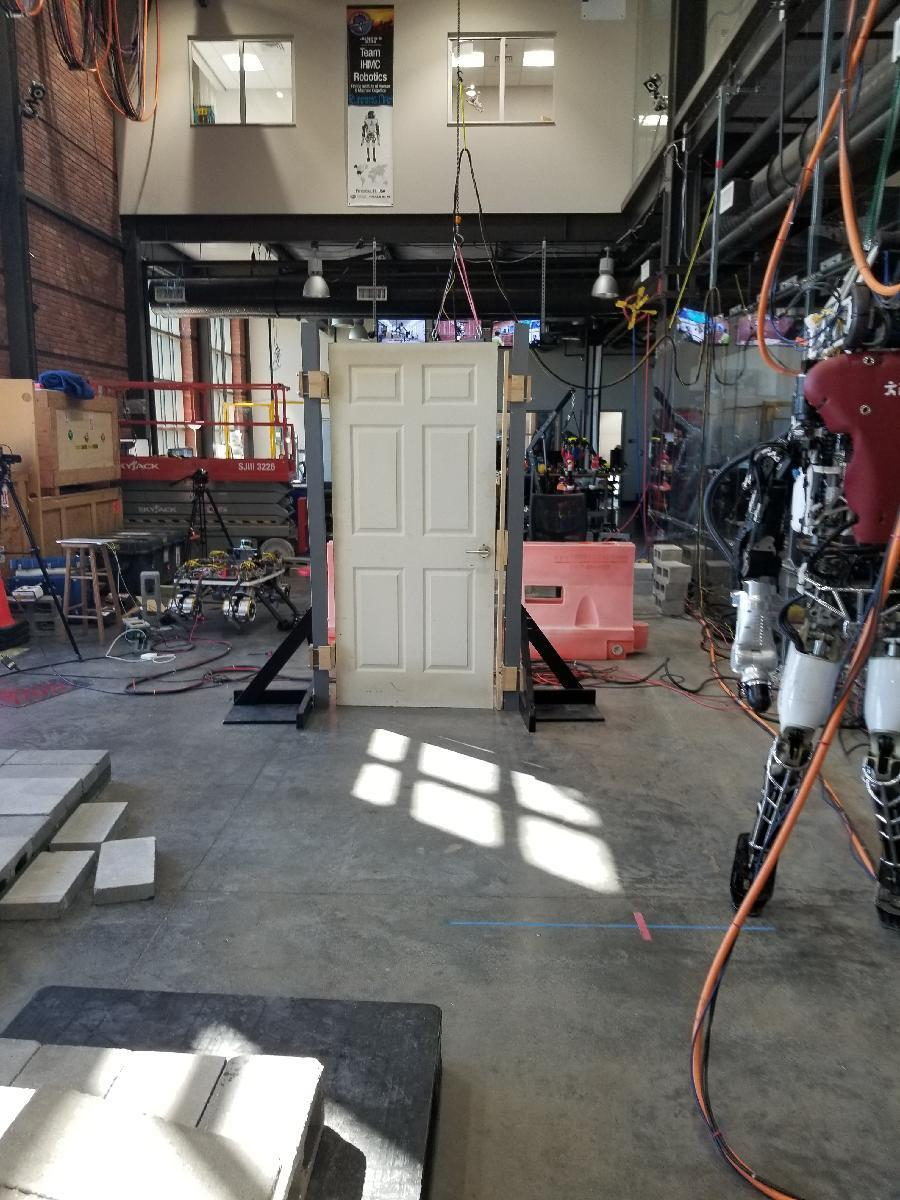door: (336, 340, 503, 712)
handle: (463, 543, 493, 561)
